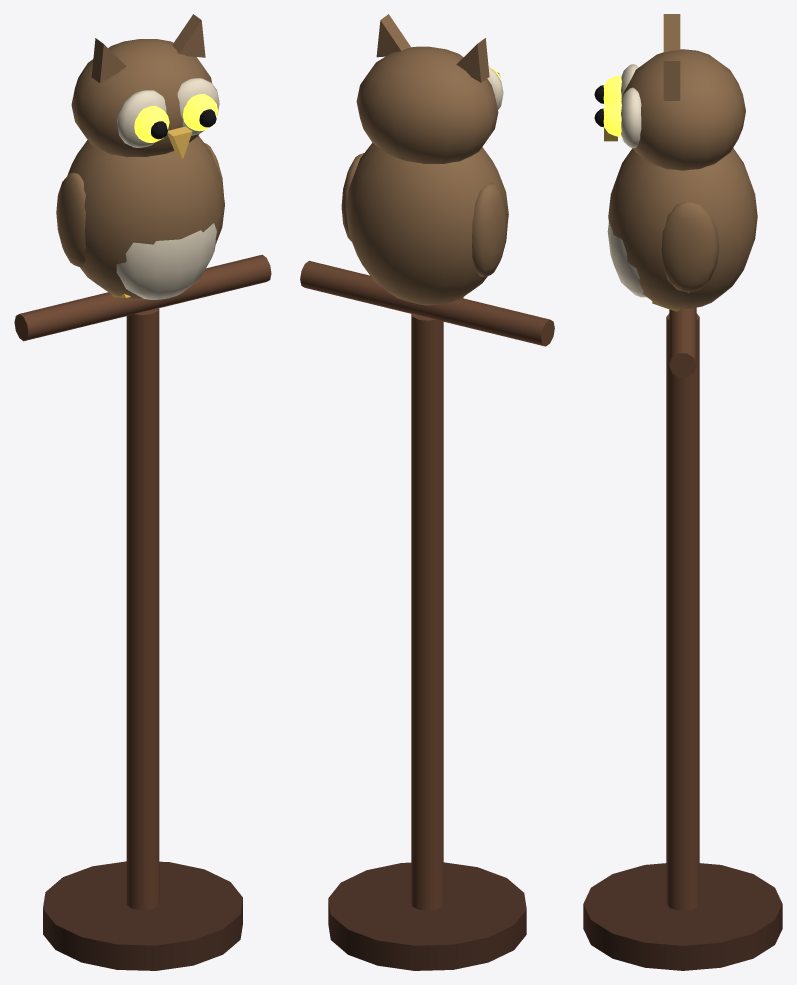
The model's file is magic_owl_perch.glb.
3 views of the same model, side by side, from view 1: azimuth 30°, elevation 25°; view 2: azimuth 150°, elevation 25°; view 3: azimuth 270°, elevation 25° (orthographic).
Parts seen in each view (by area): view 1: magic_owl_perch; view 2: magic_owl_perch; view 3: magic_owl_perch.
Boxes of the visible parts, <box> form: magic_owl_perch: <box>14,14,271,970</box>; magic_owl_perch: <box>300,14,554,970</box>; magic_owl_perch: <box>583,14,782,970</box>.
Bounding box in the file's own units: 0.5 × 1.78 × 0.36.
